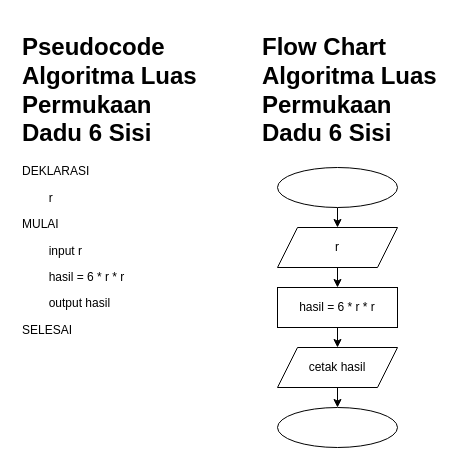
The diagram is 464 pixels wide and 465 high, and some of its shapes have lost their labels. The shapes that lost their labels are listed below. From the top down, each one's centre as x and y in pixels, then its label:
At (x=337, y=187): "Mulai".
At (x=337, y=427): "Selesai".
